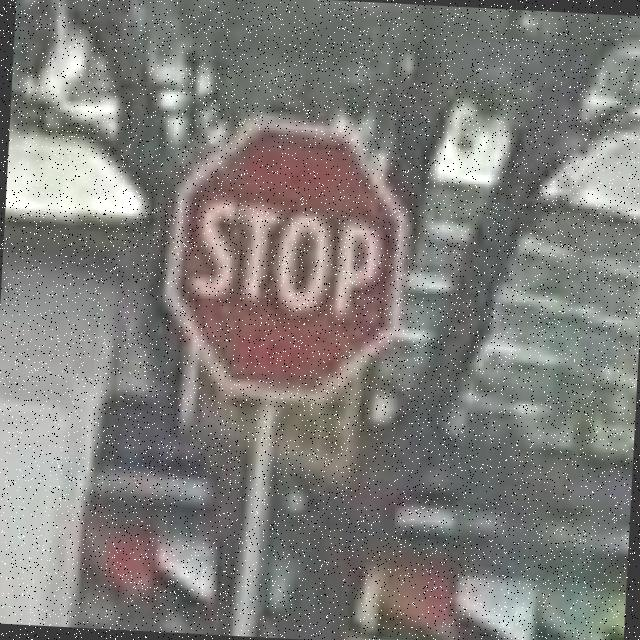Stop: (168, 122, 410, 396)
